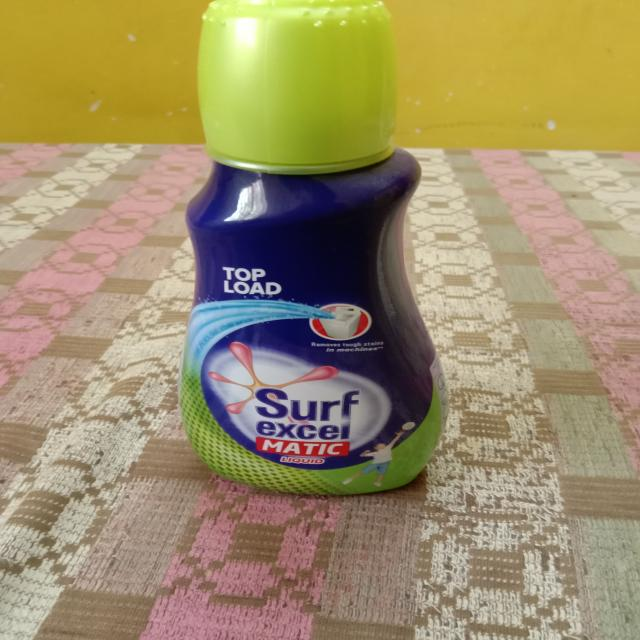detergent: (172, 0, 446, 502)
